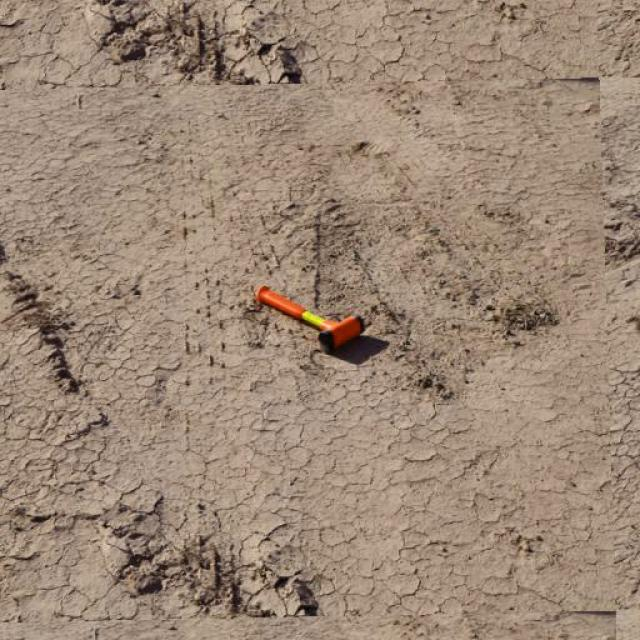mallet: (253, 282, 365, 352)
